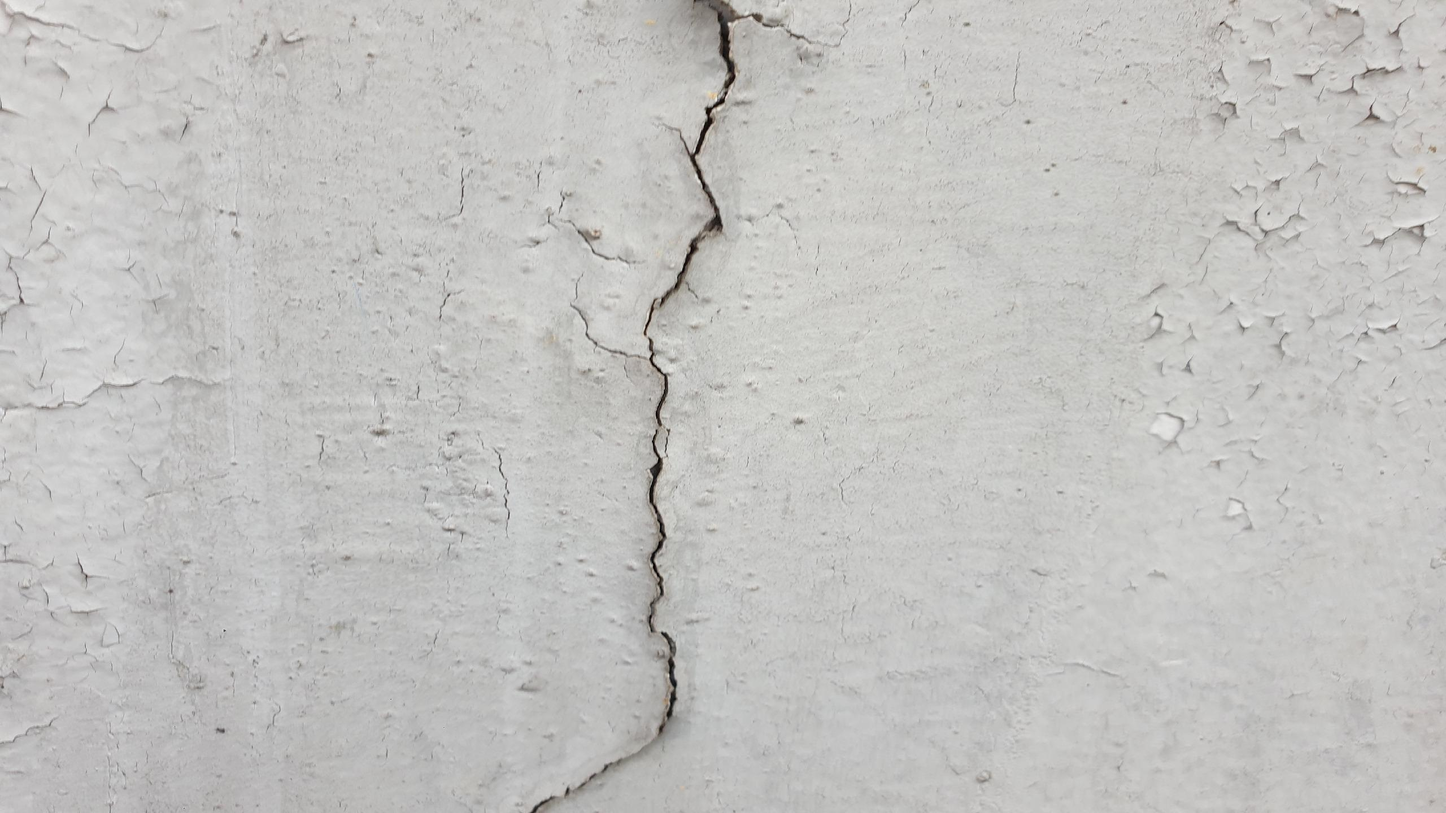crack: (529, 0, 742, 809)
